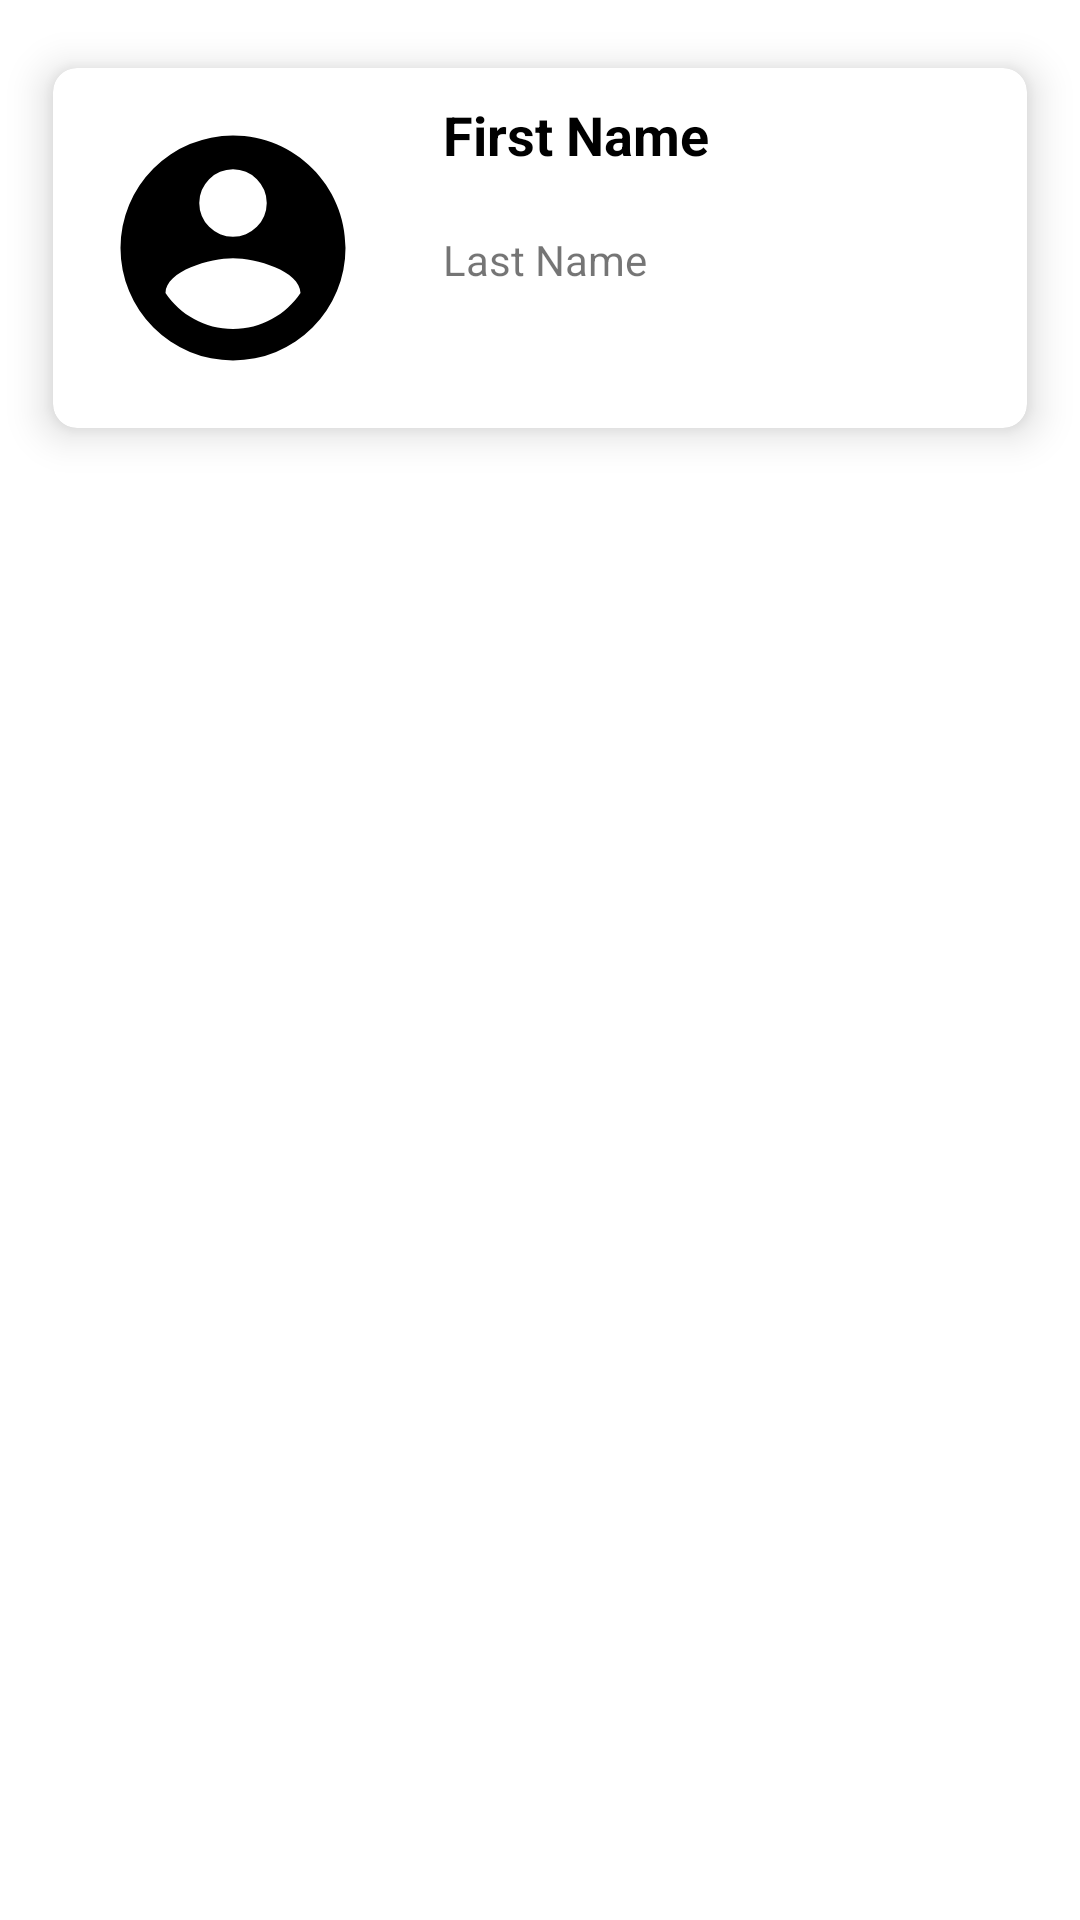

Point at icon controls on the screen. Image size 1080w x 1920h, points as point (x, y).
profile: point (233, 248)
